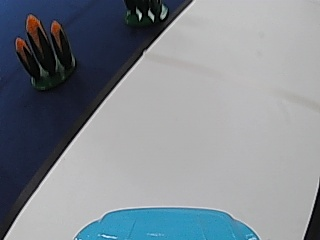corn: (14, 12, 77, 89), (123, 0, 169, 26)
